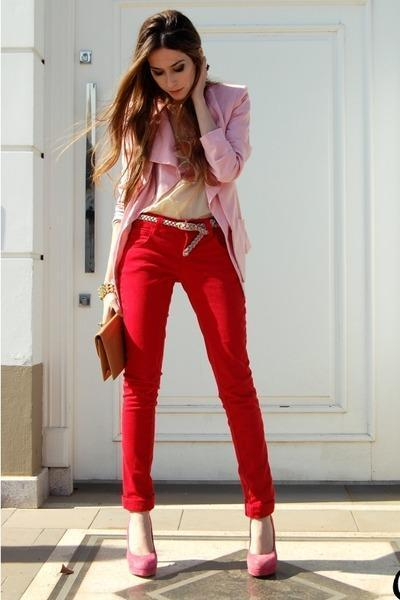bag: (95, 300, 125, 380)
jacket: (150, 85, 249, 227)
pants: (114, 212, 274, 515)
shirt: (141, 181, 213, 229)
shoe: (119, 540, 278, 586)
